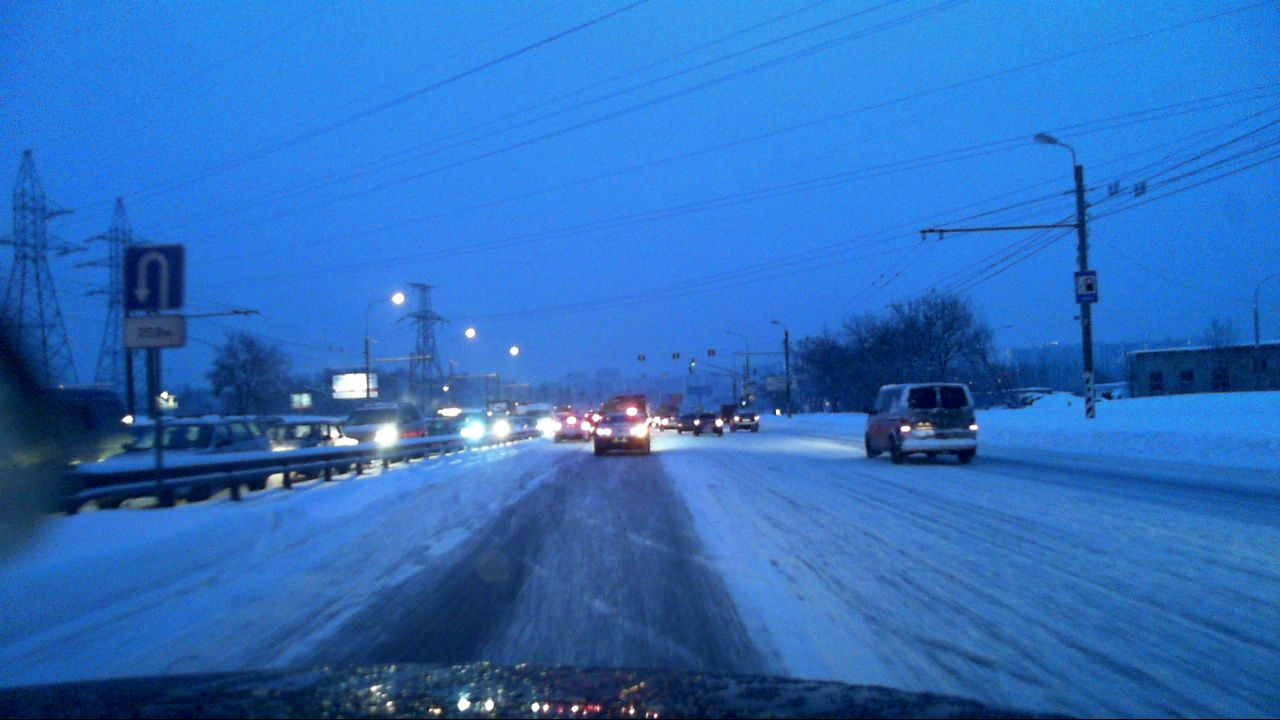U-turn: (125, 248, 181, 308)
